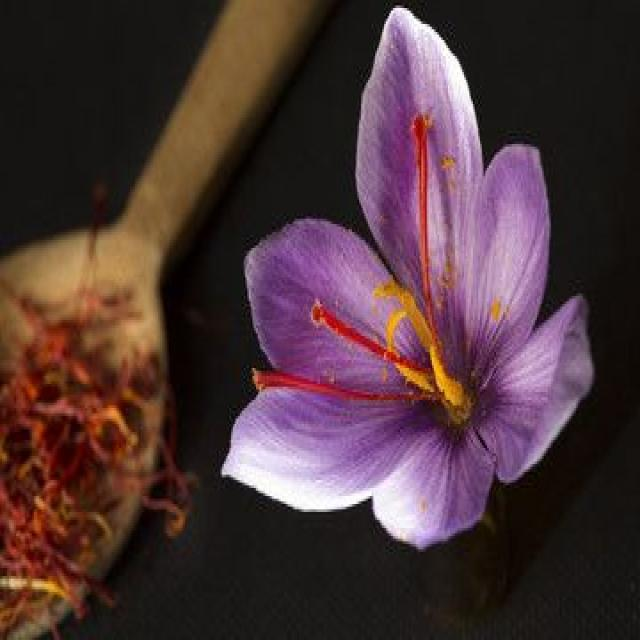Flower: (223, 7, 595, 546)
stigma: (383, 89, 468, 281), (240, 364, 416, 417), (305, 294, 399, 362)
